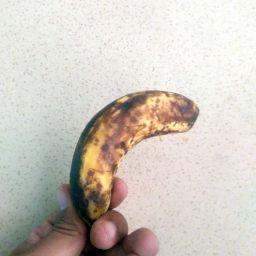banana: (69, 88, 202, 230)
